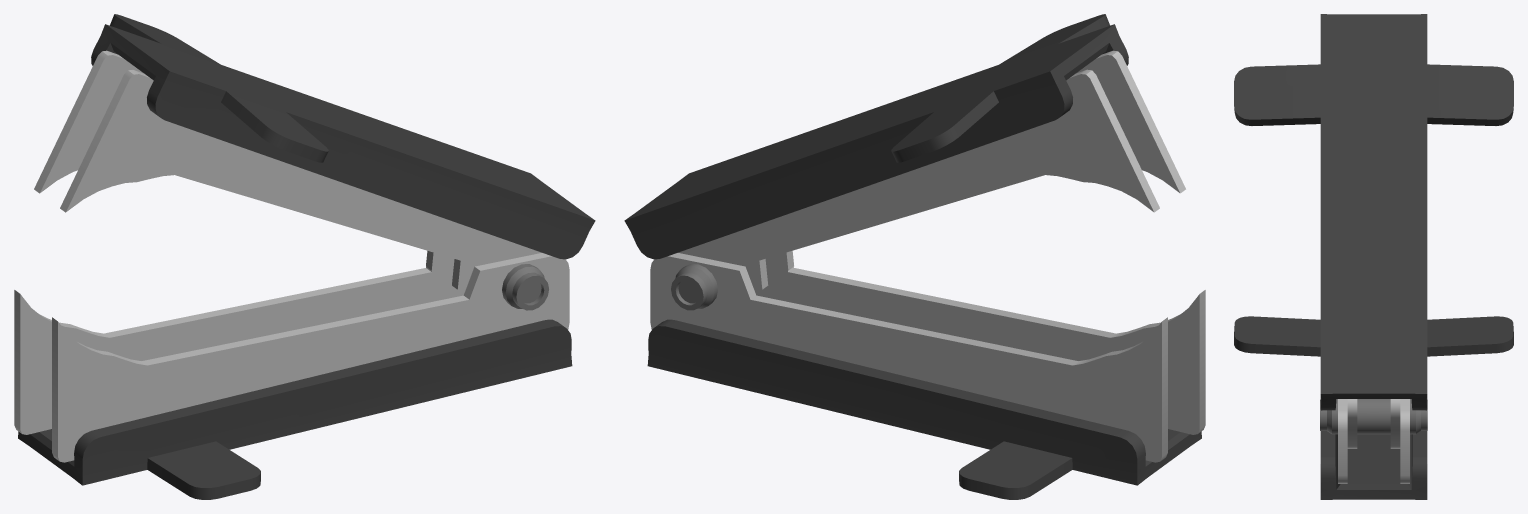
The model's file is Staple Remover01.fbx.
3 views of the same model, side by side, from view 1: azimuth 30°, elevation 25°; view 2: azimuth 150°, elevation 25°; view 3: azimuth 270°, elevation 25° (orthographic). The views are drawn at different scales.
Parts seen in each view (by area): view 1: Staple Remover01; view 2: Staple Remover01; view 3: Staple Remover01.
Boxes of the visible parts, x1=… form: Staple Remover01: x1=14, y1=14, x2=595, y2=499; Staple Remover01: x1=624, y1=14, x2=1205, y2=499; Staple Remover01: x1=1234, y1=14, x2=1513, y2=499.
Size of the model in its own units: 0.1178 by 0.0656 by 0.0839.
